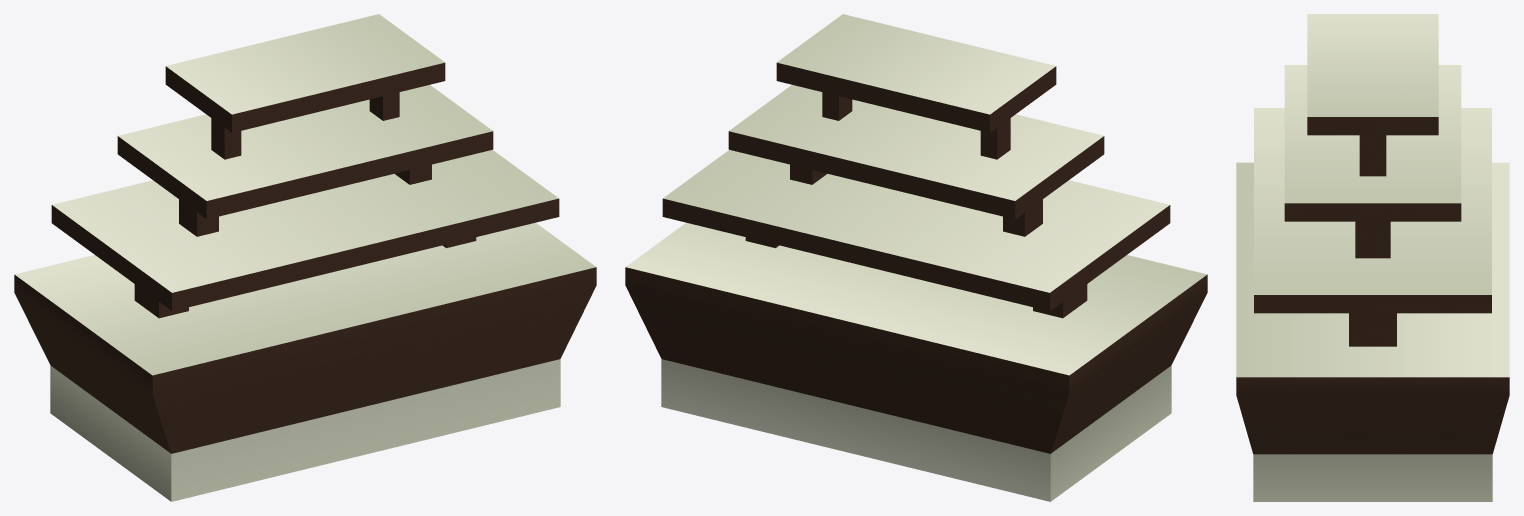
File: Display_A_3.FBX
3 renders of one model, left to right at view 1: azimuth 30°, elevation 25°; view 2: azimuth 150°, elevation 25°; view 3: azimuth 270°, elevation 25°, orthographic.
Parts seen in each view (by area): view 1: Display_A; view 2: Display_A; view 3: Display_A.
Boxes of the visible parts, x1,y1,x2,y2 form: Display_A: [14, 14, 596, 501]; Display_A: [625, 14, 1207, 501]; Display_A: [1236, 14, 1509, 501].
Bounding box in the file's own units: 371 × 276 × 200.
